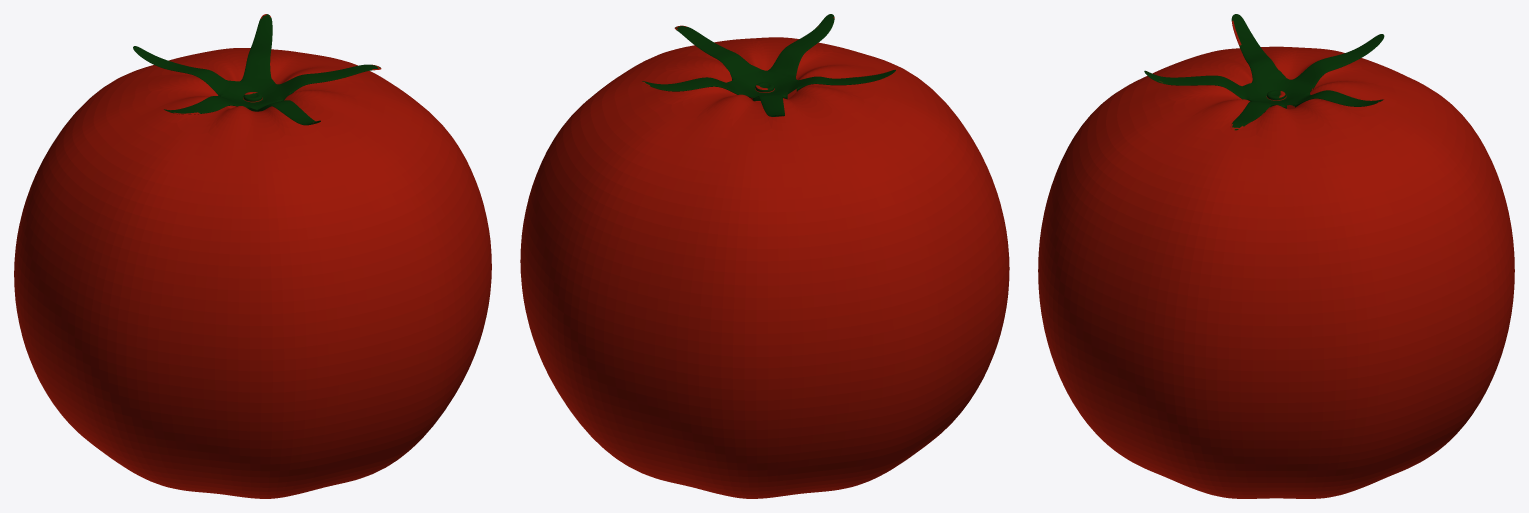
Rendered from tomato8.obj.
3 views of the same model, side by side, from view 1: azimuth 30°, elevation 25°; view 2: azimuth 150°, elevation 25°; view 3: azimuth 270°, elevation 25° (orthographic). The views are drawn at different scales.
Parts seen in each view (by area): view 1: Sphere.001, Sphere; view 2: Sphere.001, Sphere; view 3: Sphere.001, Sphere.
Part boxes in pixels (box(x1,y1,x2,y2)): Sphere.001: box(14, 48, 491, 498); Sphere: box(133, 14, 381, 125); Sphere.001: box(520, 37, 1009, 498); Sphere: box(642, 14, 895, 116); Sphere.001: box(1038, 46, 1514, 498); Sphere: box(1144, 14, 1384, 130).
Bounding box in the file's own units: 0.0923 × 0.0833 × 0.0923.
Materials: 1 (1 with a texture image).
